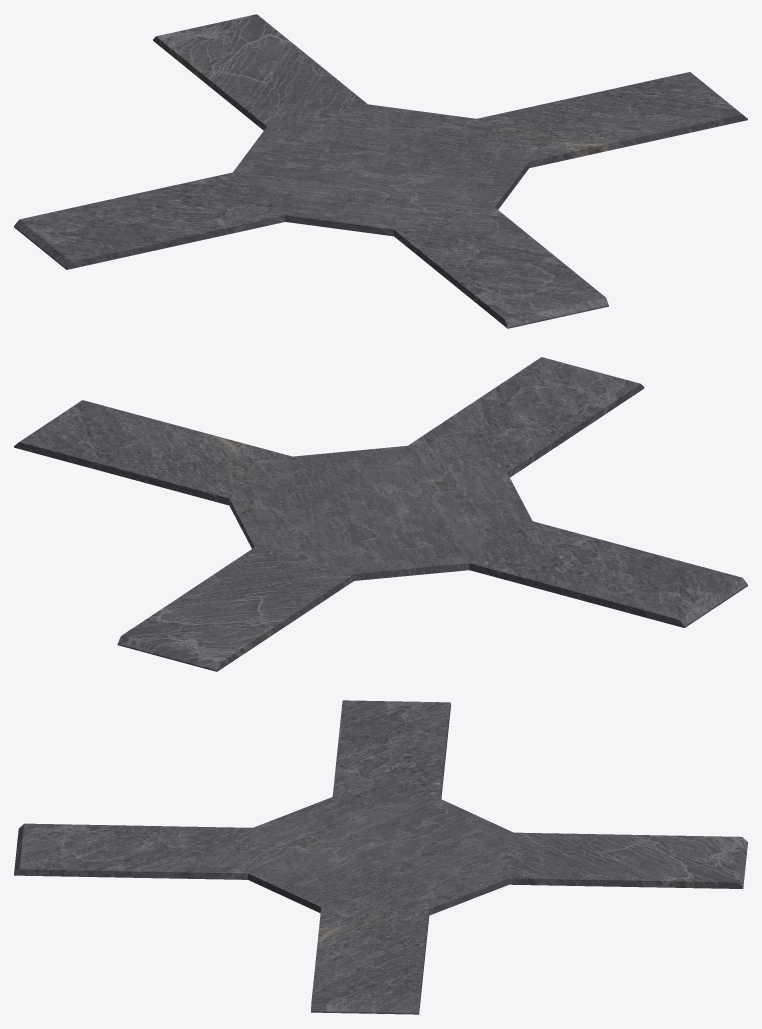
File: platform.fbx
3 renders of one model, top to bottom at view 1: azimuth 30°, elevation 25°; view 2: azimuth 150°, elevation 25°; view 3: azimuth 270°, elevation 25°, orthographic. The views are drawn at different scales.
Parts seen in each view (by area): view 1: platform; view 2: platform; view 3: platform.
Part boxes in pixels (x1,y1,x2,y2): platform: (14, 14, 747, 328); platform: (14, 357, 747, 671); platform: (14, 700, 747, 1014).
Bounding box in the file's own units: 51.9 × 0.5 × 51.9.
1 material, 1 textured.
